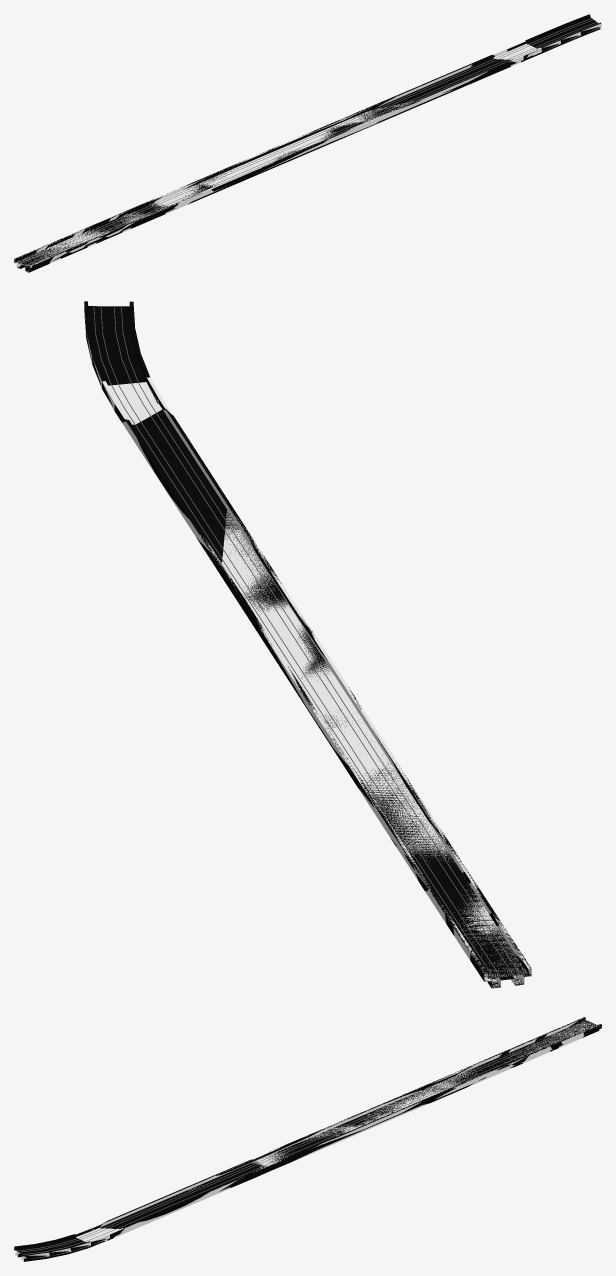
File: elevated_rail_segment2.dae
The picture shows the model from 3 angles, top to bottom: view 1: azimuth 90°, elevation 25°; view 2: azimuth 150°, elevation 25°; view 3: azimuth 270°, elevation 25°; orthographic projection. The views are drawn at different scales.
Visible parts, largest first — view 1: elevated_rail_segment2_a2000, elevated_rail_segment2_a3000; view 2: elevated_rail_segment2_a2000, elevated_rail_segment2_a3000; view 3: elevated_rail_segment2_a2000, elevated_rail_segment2_a3000.
Boxes of the visible parts, x1=… form: elevated_rail_segment2_a2000: x1=14, y1=14, x2=600, y2=272; elevated_rail_segment2_a3000: x1=14, y1=18, x2=601, y2=271; elevated_rail_segment2_a2000: x1=84, y1=301, x2=531, y2=988; elevated_rail_segment2_a3000: x1=84, y1=305, x2=531, y2=987; elevated_rail_segment2_a2000: x1=14, y1=1017, x2=601, y2=1261; elevated_rail_segment2_a3000: x1=14, y1=1018, x2=601, y2=1261.
Bounding box in the file's own units: 212 × 214 × 5.77.
